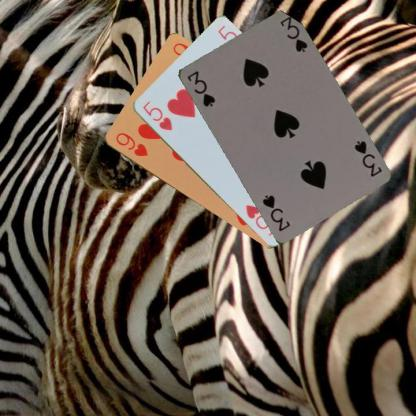3s: (184, 68, 216, 108), (351, 138, 383, 178)
5h: (140, 98, 173, 132)
9h: (113, 130, 149, 158)
